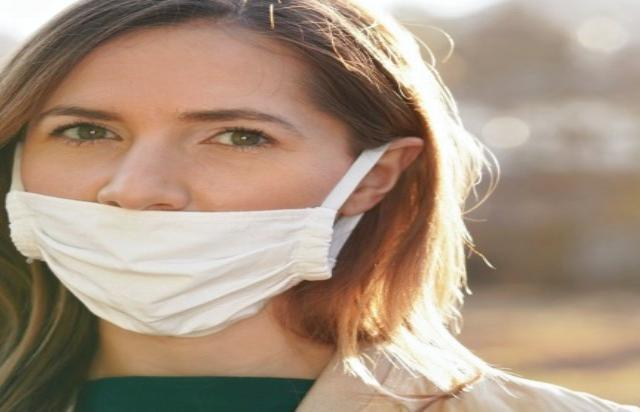mask_weared_incorrect: (2, 1, 465, 341)
